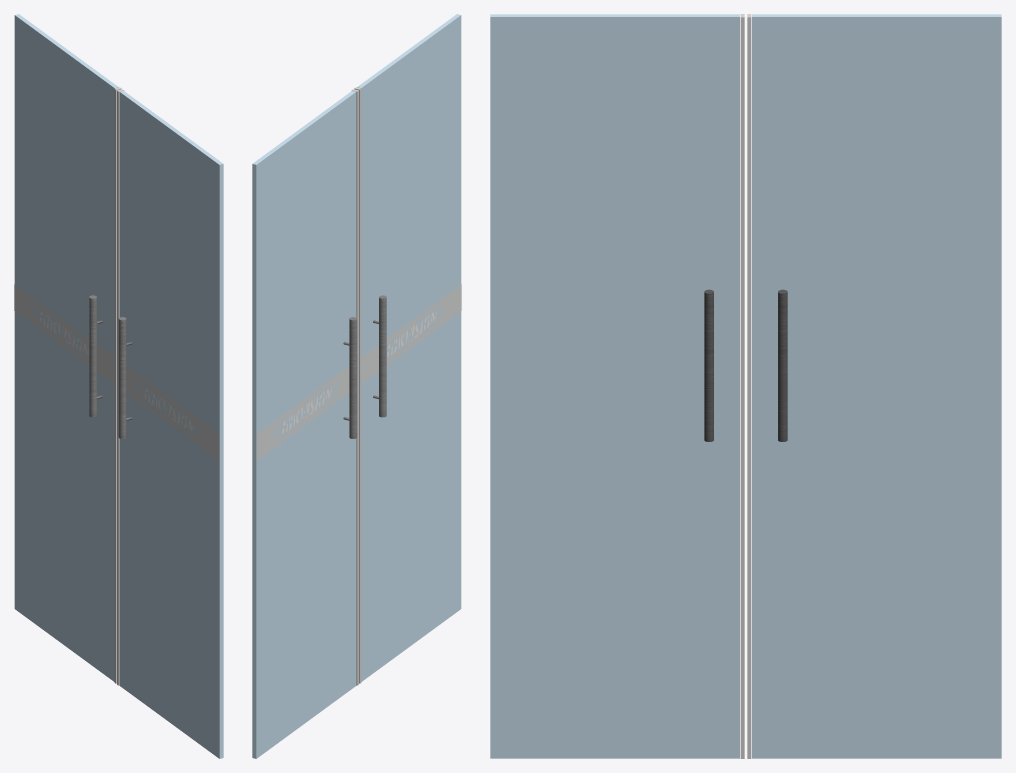
The model's file is men_r.obj.
3 renders of one model, left to right at view 1: azimuth 30°, elevation 25°; view 2: azimuth 150°, elevation 25°; view 3: azimuth 270°, elevation 25°, orthographic. The views are drawn at different scales.
Parts seen in each view (by area): view 1: men_boli_008, men_boli_007, men_pensha_008, men_pensha_007, men_jiao_007, men_jiao_008, men_xuanba_002, men_xuanba_01; view 2: men_boli_007, men_boli_008, men_pensha_008, men_pensha_007, men_jiao_008, men_jiao_007, men_xuanba_01, men_xuanba_002; view 3: men_boli_007, men_boli_008, men_jiao_007, men_jiao_008, men_xuanba_01, men_xuanba_002.
Boxes of the visible parts, <box> form: men_boli_008: <box>119,91,223,758</box>; men_boli_007: <box>14,14,118,681</box>; men_pensha_008: <box>126,366,218,460</box>; men_pensha_007: <box>14,284,113,383</box>; men_jiao_007: <box>114,87,121,683</box>; men_jiao_008: <box>117,89,124,685</box>; men_xuanba_002: <box>118,317,132,438</box>; men_xuanba_01: <box>89,295,102,417</box>; men_boli_007: <box>252,91,356,758</box>; men_boli_008: <box>357,14,461,681</box>; men_pensha_008: <box>362,284,461,383</box>; men_pensha_007: <box>257,366,349,460</box>; men_jiao_008: <box>354,87,361,683</box>; men_jiao_007: <box>351,89,358,685</box>; men_xuanba_01: <box>343,317,357,438</box>; men_xuanba_002: <box>373,295,386,417</box>; men_boli_007: <box>752,14,1001,758</box>; men_boli_008: <box>490,14,739,758</box>; men_jiao_007: <box>747,14,751,758</box>; men_jiao_008: <box>740,14,744,758</box>; men_xuanba_01: <box>778,289,787,441</box>; men_xuanba_002: <box>704,289,713,441</box>.
Size of the model in its own units: 10.4 by 200 by 125.
4 materials, 2 textured.
